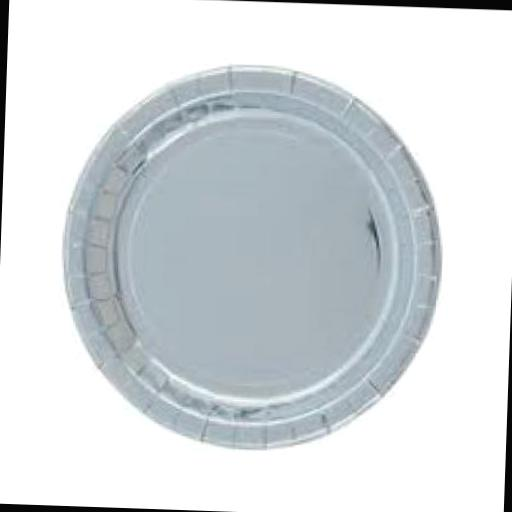metal: (52, 55, 446, 452)
